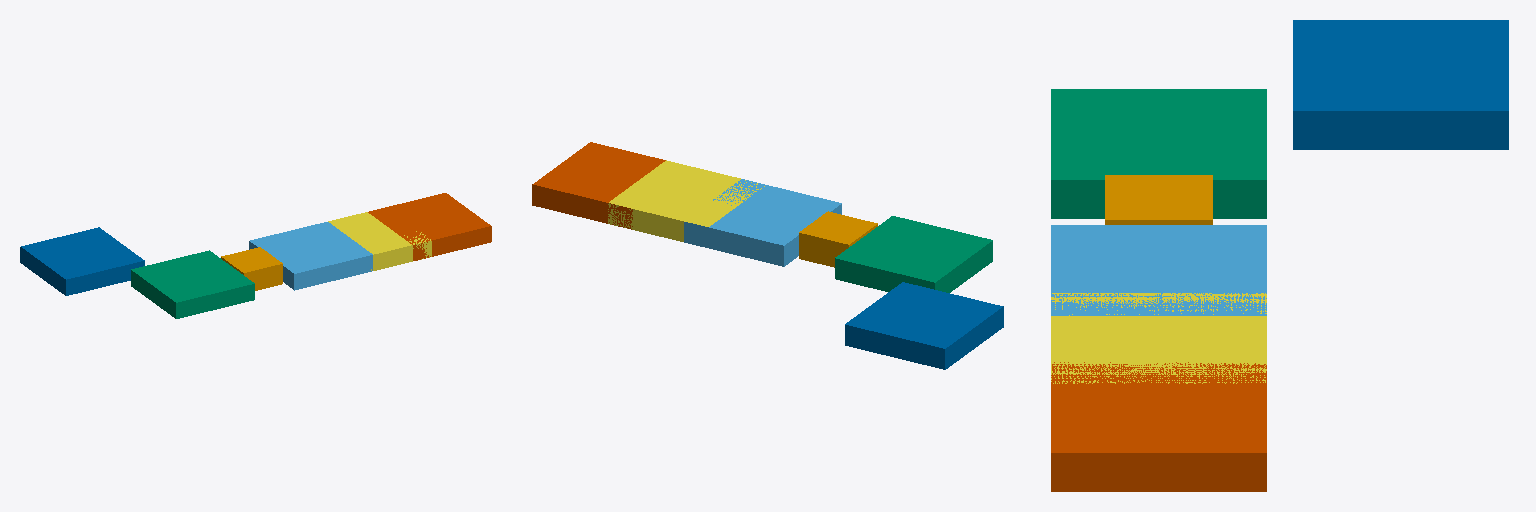
The robot description file, URDF, robot "planetary_gear_assembly":
<?xml version="1.0" ?>
<robot name="planetary_gear_assembly">
  <link name="carrier">
    <visual>
      <geometry>
        <box size="0.04 0.04 0.02"/>
      </geometry>
    </visual>
  </link>
  <link name="first_planet_gear">
    <visual>
      <geometry>
        <box size="0.08 0.08 0.016"/>
      </geometry>
    </visual>
  </link>
  <link name="ring_gear">
    <visual>
      <geometry>
        <box size="0.08 0.08 0.016"/>
      </geometry>
    </visual>
  </link>
  <link name="second_planet_gear">
    <visual>
      <geometry>
        <box size="0.08 0.08 0.016"/>
      </geometry>
    </visual>
  </link>
  <link name="sun_gear">
    <visual>
      <geometry>
        <box size="0.08 0.08 0.016"/>
      </geometry>
    </visual>
  </link>
  <link name="third_planet_gear">
    <visual>
      <geometry>
        <box size="0.08 0.08 0.016"/>
      </geometry>
    </visual>
  </link>
  <joint name="_attach_sun_gear_to_carrier" type="fixed">
    <parent link="sun_gear"/>
    <child link="carrier"/>
    <origin xyz="0.1200 -0.0900 0.0000" rpy="0 0 0"/>
  </joint>
  <joint name="_attach_sun_gear_to_first_planet_gear" type="fixed">
    <parent link="sun_gear"/>
    <child link="first_planet_gear"/>
    <origin xyz="0.1800 -0.0900 0.0000" rpy="0 0 0"/>
  </joint>
  <joint name="_attach_sun_gear_to_ring_gear" type="fixed">
    <parent link="sun_gear"/>
    <child link="ring_gear"/>
    <origin xyz="0.0600 -0.0900 0.0000" rpy="0 0 0"/>
  </joint>
  <joint name="_attach_sun_gear_to_second_planet_gear" type="fixed">
    <parent link="sun_gear"/>
    <child link="second_planet_gear"/>
    <origin xyz="0.2400 -0.0900 0.0000" rpy="0 0 0"/>
  </joint>
  <joint name="_attach_sun_gear_to_third_planet_gear" type="fixed">
    <parent link="sun_gear"/>
    <child link="third_planet_gear"/>
    <origin xyz="0.3000 -0.0900 0.0000" rpy="0 0 0"/>
  </joint>
</robot>

--- What the picture shows (computed from the rendered views, not written in the file) ---
3 views of the same robot in one strip: view 1: azimuth 30°, elevation 25°; view 2: azimuth 150°, elevation 25°; view 3: azimuth 270°, elevation 25° (orthographic).
Robot: planetary_gear_assembly — 6 links, 5 joints (5 fixed); root link sun_gear; default pose: every joint at zero.
Links seen in each view (by area): view 1: ring_gear, sun_gear, first_planet_gear, third_planet_gear, second_planet_gear, carrier; view 2: sun_gear, ring_gear, first_planet_gear, second_planet_gear, third_planet_gear, carrier; view 3: sun_gear, third_planet_gear, ring_gear, first_planet_gear, second_planet_gear, carrier.
Boxes of the visible links, bbox=[...] form: ring_gear: bbox=[131, 250, 254, 318]; sun_gear: bbox=[20, 227, 144, 295]; first_planet_gear: bbox=[249, 222, 372, 290]; third_planet_gear: bbox=[368, 193, 491, 260]; second_planet_gear: bbox=[328, 212, 431, 270]; carrier: bbox=[221, 247, 282, 290]; sun_gear: bbox=[845, 282, 1003, 369]; ring_gear: bbox=[835, 216, 992, 292]; first_planet_gear: bbox=[684, 179, 841, 266]; second_planet_gear: bbox=[608, 160, 764, 241]; third_planet_gear: bbox=[532, 142, 665, 229]; carrier: bbox=[799, 211, 877, 267]; sun_gear: bbox=[1293, 20, 1508, 149]; third_planet_gear: bbox=[1051, 362, 1266, 491]; ring_gear: bbox=[1051, 89, 1266, 218]; first_planet_gear: bbox=[1051, 225, 1266, 315]; second_planet_gear: bbox=[1051, 293, 1266, 383]; carrier: bbox=[1105, 175, 1212, 224].
Size in the robot's own frame: 0.38 by 0.17 by 0.02 metres.
Geometry: primitives only (box / cylinder / sphere), no mesh files.
